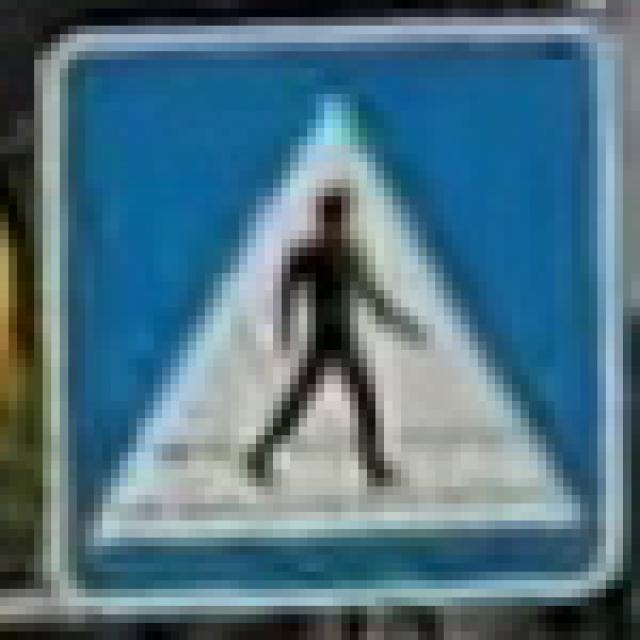zebracrossing_sign: (26, 17, 623, 597)
